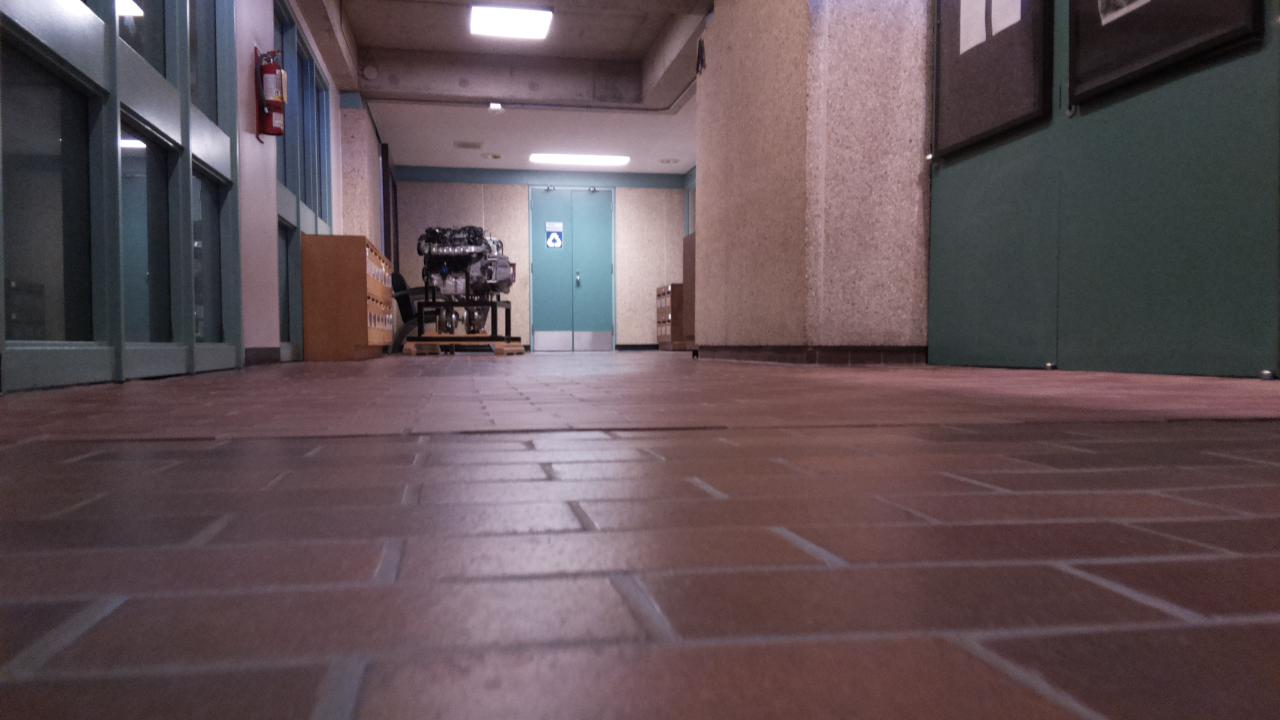door: (532, 189, 611, 350)
sign: (547, 232, 561, 247), (546, 222, 562, 231)
